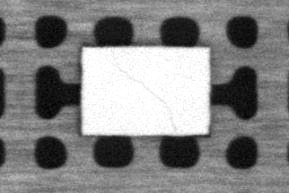DIE_CRACK: (111, 60, 176, 131)
